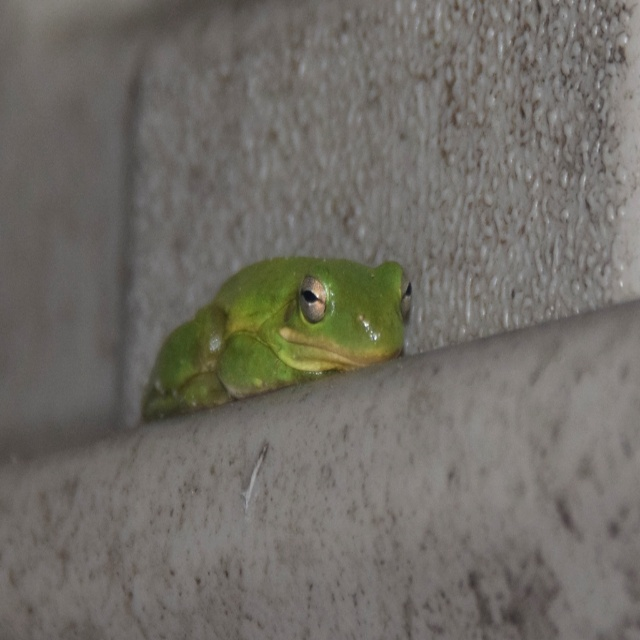Frog: (143, 262, 413, 423)
